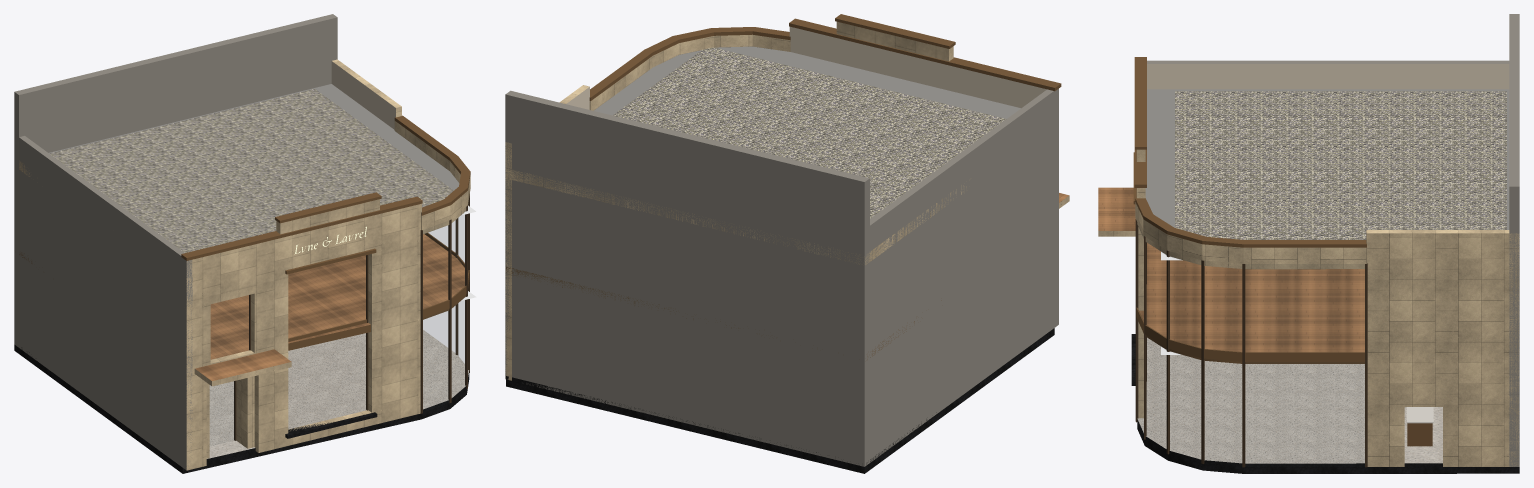
The model's file is lune_and_laurel_LOD2.fbx.
The picture shows the model from 3 angles, left to right: view 1: azimuth 30°, elevation 25°; view 2: azimuth 150°, elevation 25°; view 3: azimuth 270°, elevation 25°; orthographic projection. The views are drawn at different scales.
Visible parts, largest first — view 1: B03_LOD2_BUILDING_EXTERIOR_Stone, B03_LOD2_BUILDING_EXTERIOR_Roof, B03_LOD2_BUILDING_EXTERIOR_RearInterface, B03_LOD2_BUILDING_INTERIOR_GroundSlab, B03_LOD2_BUILDING_INTERIOR_FirstSlab, B03_LOD2_FACADE_DETAILS_Bronze, B03_LOD2_GLASS_SYSTEM_CornerFrame, B03_LOD2_FACADE_DETAILS_CornerBands, B03_LOD2_GLASS_SYSTEM_CornerGlass, B03_LOD2_GLASS_SYSTEM_TallWindowFrame; view 2: B03_LOD2_BUILDING_EXTERIOR_Stone, B03_LOD2_BUILDING_EXTERIOR_RearInterface, B03_LOD2_BUILDING_EXTERIOR_Roof, B03_LOD2_BUILDING_INTERIOR_GroundSlab, B03_LOD2_FACADE_DETAILS_CornerBands, B03_LOD2_FACADE_DETAILS_Bronze; view 3: B03_LOD2_BUILDING_EXTERIOR_Roof, B03_LOD2_BUILDING_EXTERIOR_Stone, B03_LOD2_BUILDING_INTERIOR_GroundSlab, B03_LOD2_BUILDING_INTERIOR_FirstSlab, B03_LOD2_GLASS_SYSTEM_CornerFrame, B03_LOD2_FACADE_DETAILS_CornerBands, B03_LOD2_BUILDING_EXTERIOR_RearInterface, B03_LOD2_FACADE_DETAILS_Bronze, B03_LOD2_DISPLAY_OBJECTS_Pastry.
Boxes of the visible parts, x1,y1,x2,y2 form: B03_LOD2_BUILDING_EXTERIOR_Stone: (14, 59, 421, 470); B03_LOD2_BUILDING_EXTERIOR_Roof: (19, 84, 466, 252); B03_LOD2_BUILDING_EXTERIOR_RearInterface: (14, 14, 337, 347); B03_LOD2_BUILDING_INTERIOR_GroundSlab: (14, 330, 469, 473); B03_LOD2_BUILDING_INTERIOR_FirstSlab: (19, 234, 466, 359); B03_LOD2_FACADE_DETAILS_Bronze: (181, 192, 422, 438); B03_LOD2_GLASS_SYSTEM_CornerFrame: (420, 194, 469, 413); B03_LOD2_FACADE_DETAILS_CornerBands: (394, 115, 470, 230); B03_LOD2_GLASS_SYSTEM_CornerGlass: (423, 215, 464, 363); B03_LOD2_GLASS_SYSTEM_TallWindowFrame: (288, 255, 368, 410); B03_LOD2_BUILDING_EXTERIOR_Stone: (505, 21, 1058, 466); B03_LOD2_BUILDING_EXTERIOR_RearInterface: (505, 90, 869, 466); B03_LOD2_BUILDING_EXTERIOR_Roof: (506, 46, 1020, 264); B03_LOD2_BUILDING_INTERIOR_GroundSlab: (506, 328, 1054, 473); B03_LOD2_FACADE_DETAILS_CornerBands: (589, 27, 790, 110); B03_LOD2_FACADE_DETAILS_Bronze: (789, 14, 1069, 208); B03_LOD2_BUILDING_EXTERIOR_Roof: (1137, 89, 1509, 269); B03_LOD2_BUILDING_EXTERIOR_Stone: (1136, 60, 1519, 466); B03_LOD2_BUILDING_INTERIOR_GroundSlab: (1137, 337, 1519, 473); B03_LOD2_BUILDING_INTERIOR_FirstSlab: (1138, 243, 1364, 363); B03_LOD2_GLASS_SYSTEM_CornerFrame: (1135, 219, 1367, 467); B03_LOD2_FACADE_DETAILS_CornerBands: (1135, 198, 1366, 263); B03_LOD2_BUILDING_EXTERIOR_RearInterface: (1509, 14, 1519, 466); B03_LOD2_FACADE_DETAILS_Bronze: (1098, 57, 1146, 385); B03_LOD2_DISPLAY_OBJECTS_Pastry: (1405, 407, 1433, 446).
Size of the model in its own units: 16.1 by 16.5 by 12.42.
